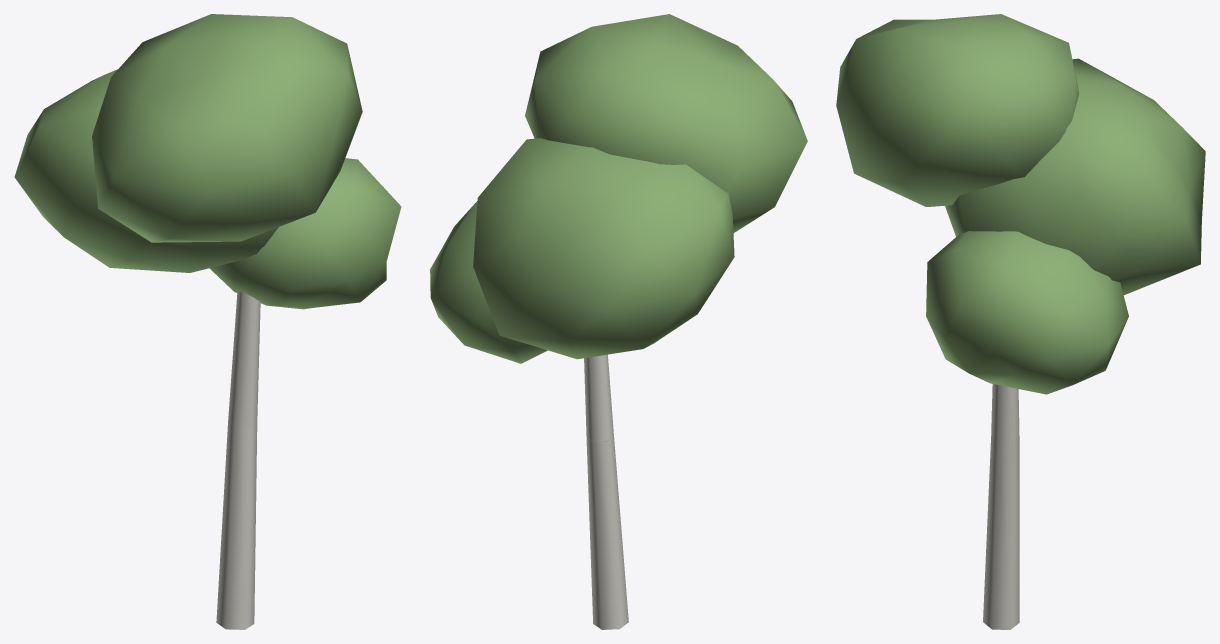
Rendered from ambient_tree_12.glb.
The picture shows the model from 3 angles, left to right: view 1: azimuth 30°, elevation 25°; view 2: azimuth 150°, elevation 25°; view 3: azimuth 270°, elevation 25°; orthographic projection. The views are drawn at different scales.
Parts seen in each view (by area): view 1: ambient_tree_12; view 2: ambient_tree_12; view 3: ambient_tree_12.
Part boxes in pixels (left/top/right/bottom): ambient_tree_12: left=14, top=14, right=401, bottom=629; ambient_tree_12: left=430, top=14, right=807, bottom=629; ambient_tree_12: left=836, top=14, right=1205, bottom=629.
Size of the model in its own units: 2.92 by 5.13 by 2.9.
